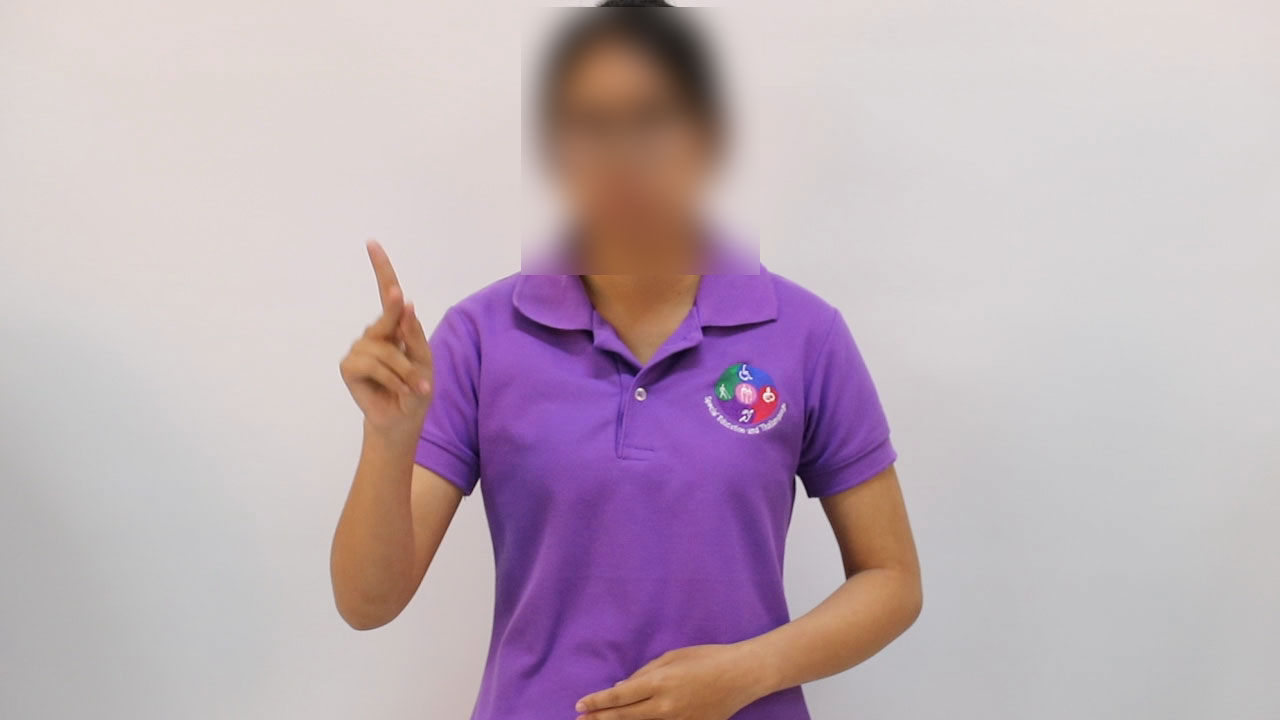ko: (326, 236, 445, 430)
